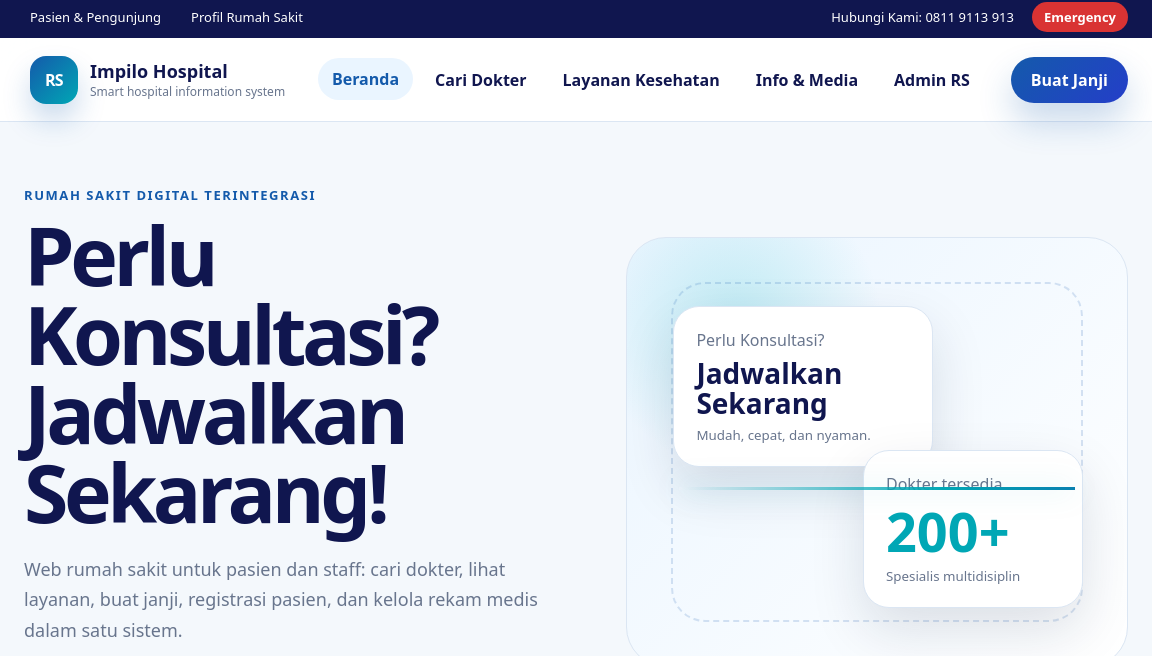
Test case: App › shows loading state while fetching data
Click the button "Admin RS" at (932, 80), box [880,58,984,100]
(page scrolled)
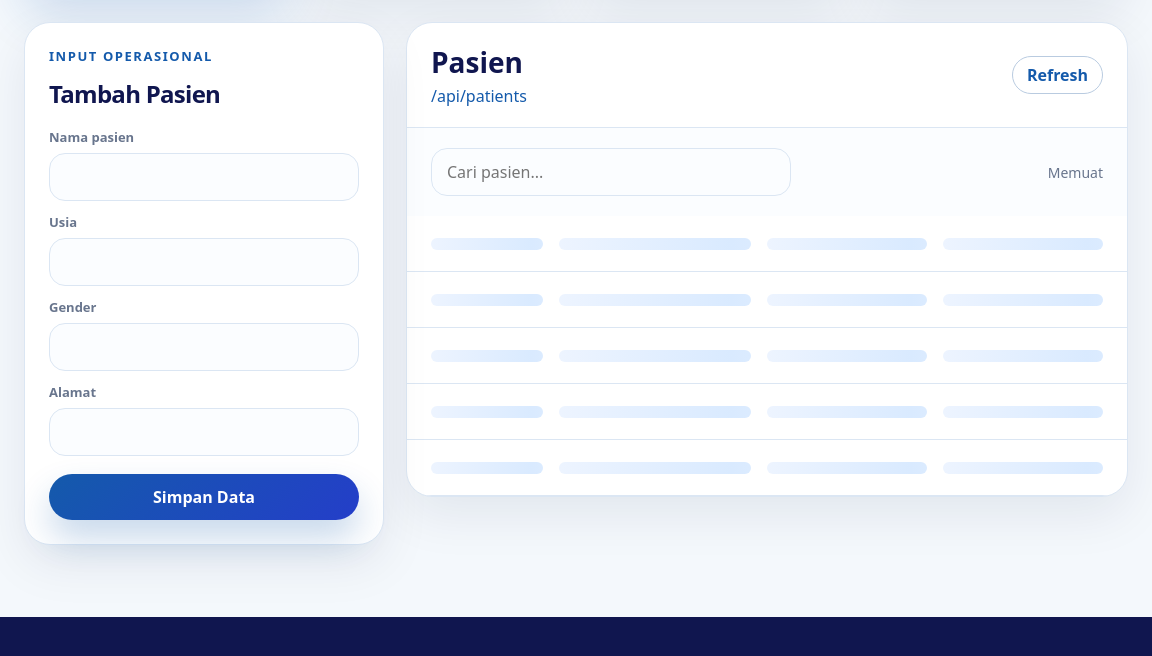
expect the element named "Memuat data" is shown: met, box [407,216,1127,496]
